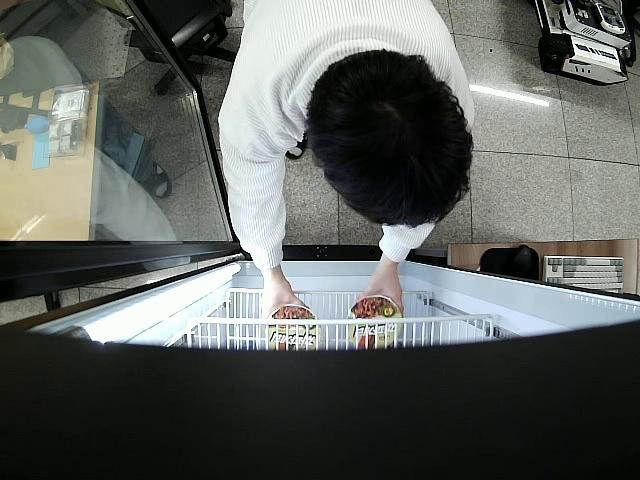03_chapagetti_L: (348, 294, 403, 349), (266, 304, 322, 352)
